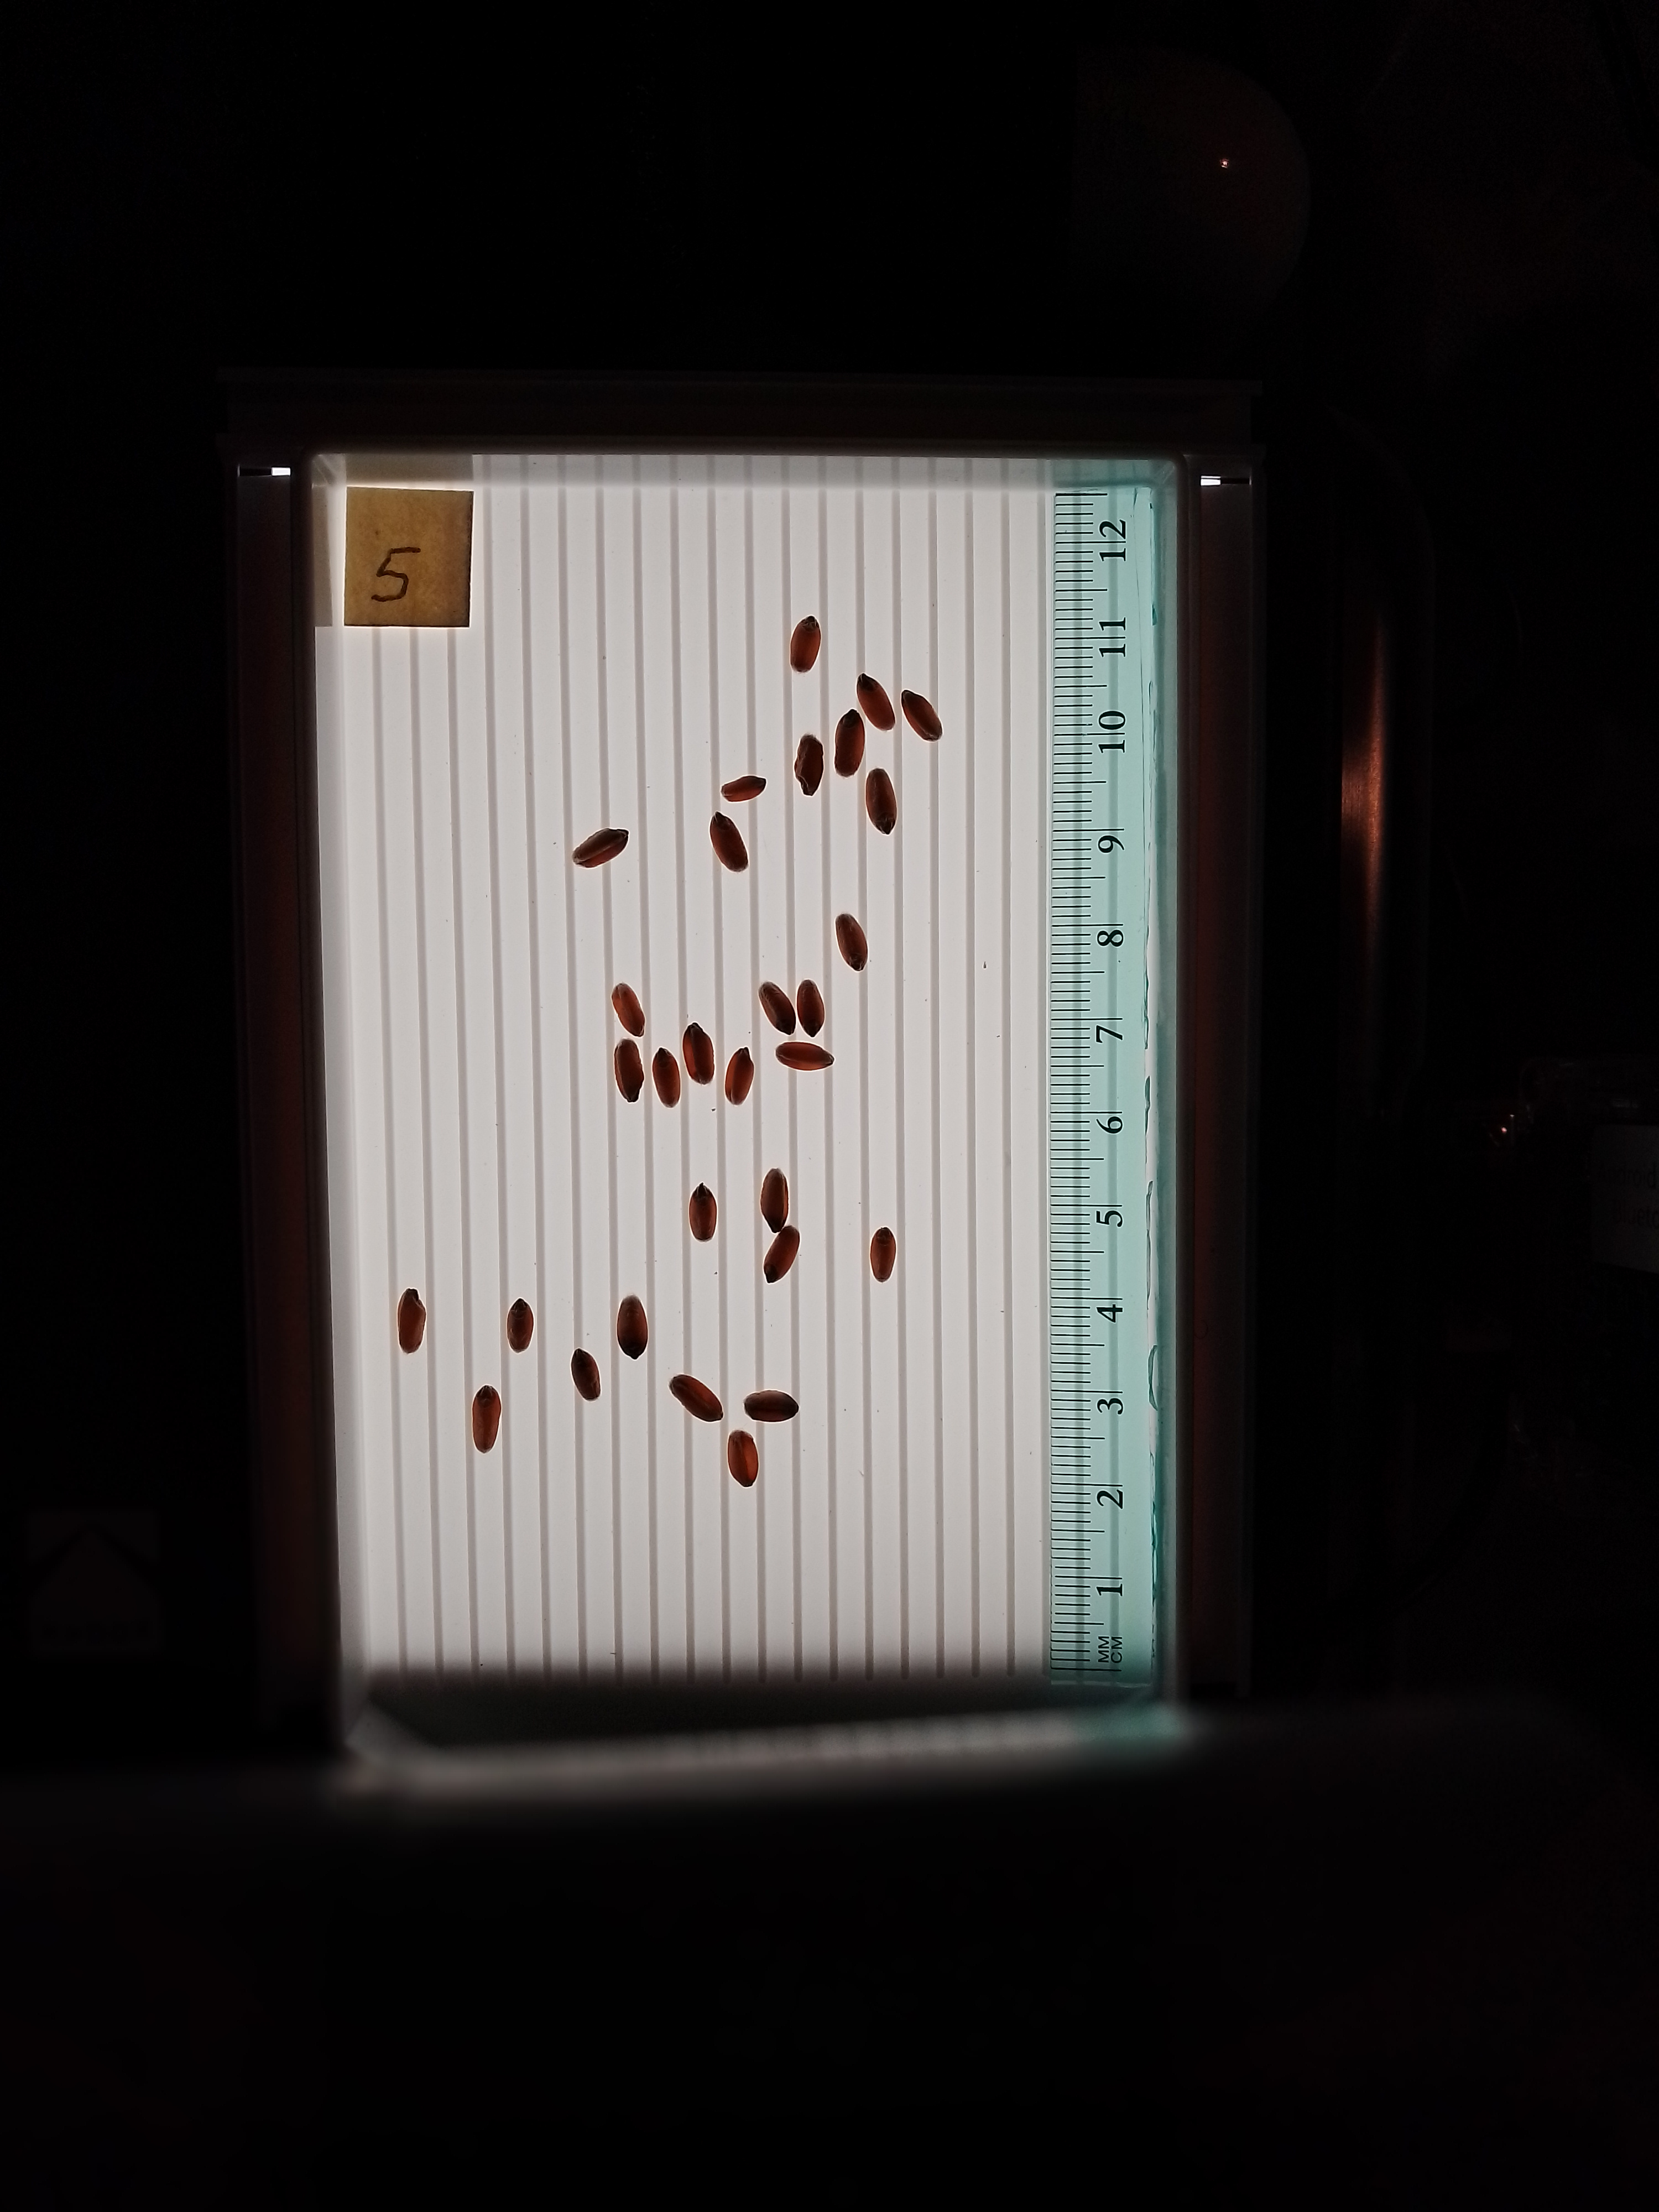seed mask: (671, 1376, 721, 1423), (711, 815, 748, 873), (573, 829, 627, 867), (471, 1386, 502, 1451), (857, 676, 894, 730), (835, 711, 864, 777), (397, 1291, 427, 1353), (683, 1024, 714, 1083), (866, 770, 896, 833), (727, 1432, 760, 1487), (765, 1228, 800, 1280), (903, 693, 941, 740), (760, 984, 795, 1035), (617, 1298, 647, 1357), (795, 735, 824, 794), (612, 984, 645, 1036), (615, 1042, 643, 1103), (777, 1040, 831, 1071), (836, 916, 868, 970), (789, 618, 821, 672), (688, 1186, 718, 1242), (746, 1390, 798, 1421), (762, 1172, 789, 1228), (652, 1050, 680, 1106), (796, 981, 824, 1036), (572, 1350, 601, 1400), (870, 1228, 896, 1280), (507, 1299, 533, 1350), (727, 1050, 751, 1104), (723, 775, 765, 803)
